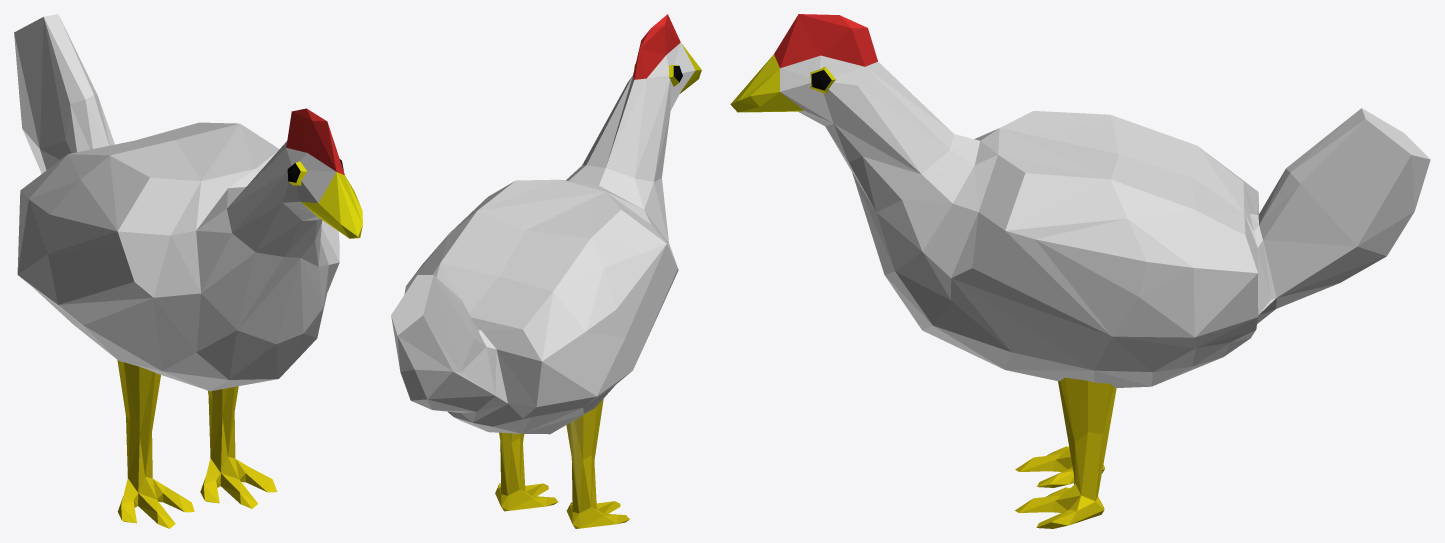
File: chicken.fbx
3 renders of one model, left to right at view 1: azimuth 30°, elevation 25°; view 2: azimuth 150°, elevation 25°; view 3: azimuth 270°, elevation 25°, orthographic. The views are drawn at different scales.
Visible parts, largest first — view 1: chicken; view 2: chicken; view 3: chicken.
Boxes of the visible parts, box(x1,y1,x2,y2) form: chicken: box(14, 14, 362, 528); chicken: box(391, 14, 701, 528); chicken: box(730, 14, 1430, 528).
Bounding box in the file's own units: 48.91 × 96.21 × 127.
